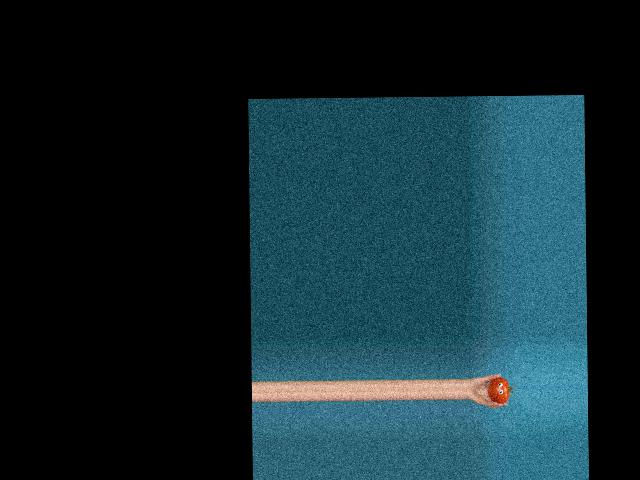tomato: (486, 376, 509, 403)
